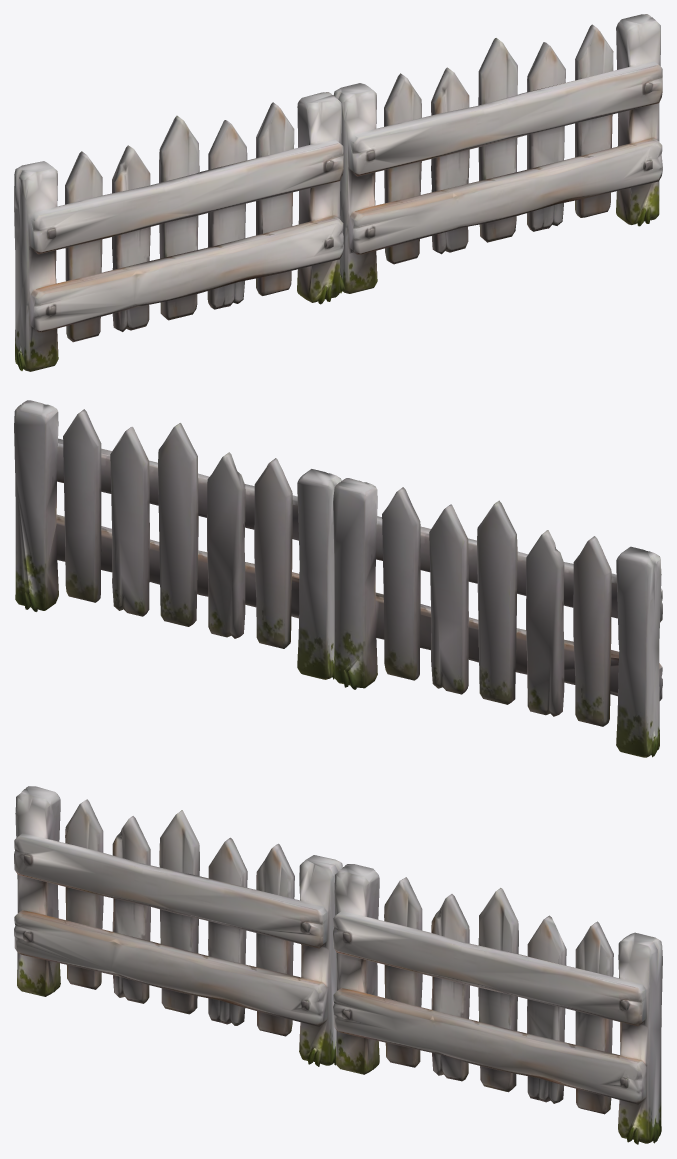
File: picket-fence.glb
3 views of the same model, one above another, from view 1: azimuth 30°, elevation 25°; view 2: azimuth 150°, elevation 25°; view 3: azimuth 330°, elevation 25° (orthographic).
Visible parts, largest first — view 1: node_0, node_0-tile1; view 2: node_0, node_0-tile1; view 3: node_0-tile1, node_0.
Boxes of the visible parts, x1,y1,x2,y2 form: node_0: [14, 92, 343, 371]; node_0-tile1: [333, 14, 662, 293]; node_0: [333, 478, 662, 757]; node_0-tile1: [14, 400, 341, 679]; node_0-tile1: [333, 864, 662, 1144]; node_0: [14, 786, 342, 1066].
Size of the model in its own units: 3.4 by 1.1 by 0.1993.
Materials: 1 (1 with a texture image).
